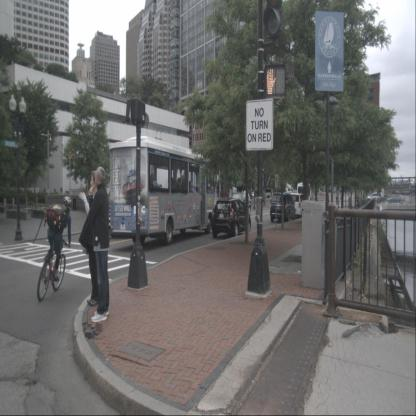human-pedestrian-adult: (78, 166, 110, 322), (78, 171, 102, 306)
vehicle-bicycle: (36, 196, 72, 302)
vehicle-bus-rigid: (109, 136, 233, 246)
vehicle-car: (211, 197, 251, 239), (270, 192, 296, 223), (296, 182, 316, 215), (228, 192, 251, 218), (288, 192, 310, 218), (366, 192, 382, 204), (387, 194, 406, 204), (260, 188, 273, 200)
